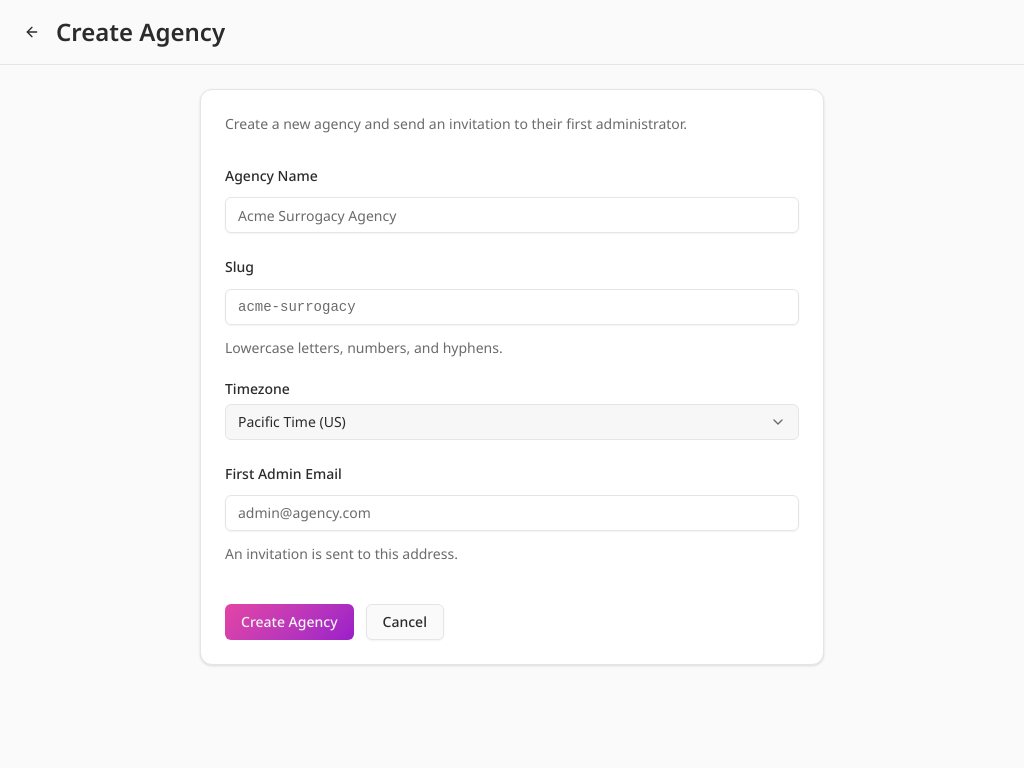
Scenario: NewAgencyPage validation › shows a slug format error instead of a required error
Type "Bad Slug" into the field labelled "Slug" at {"x": 512, "y": 306}, box [225, 288, 799, 324]
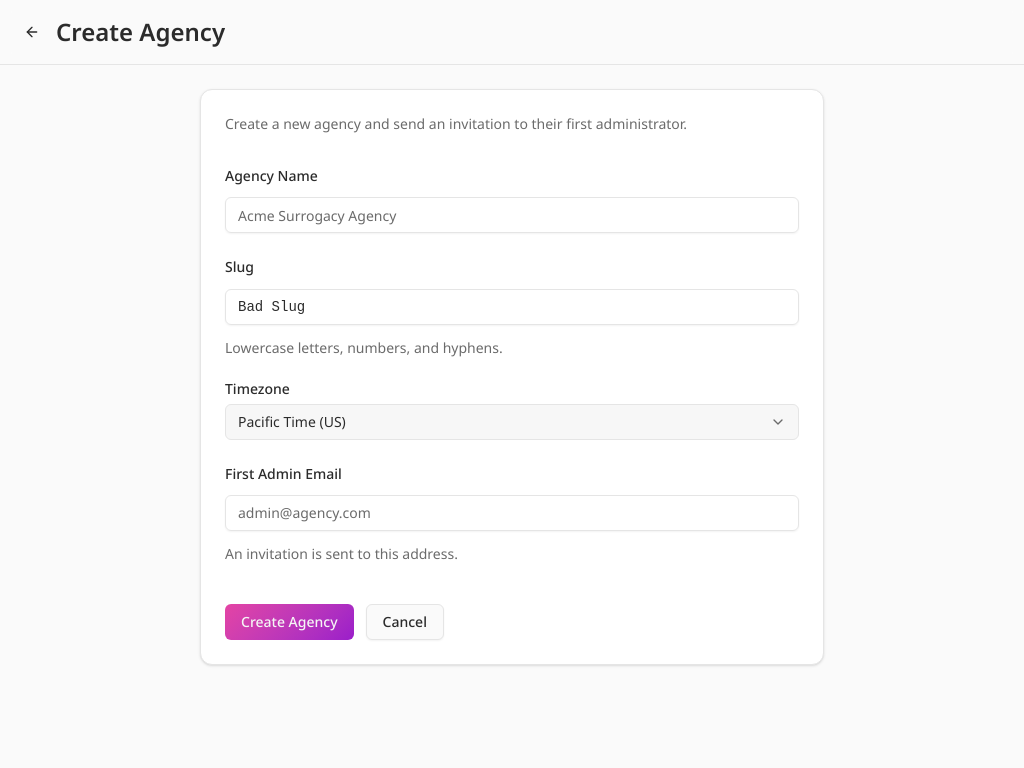
Leave the field labelled "Slug", box [225, 288, 799, 324]
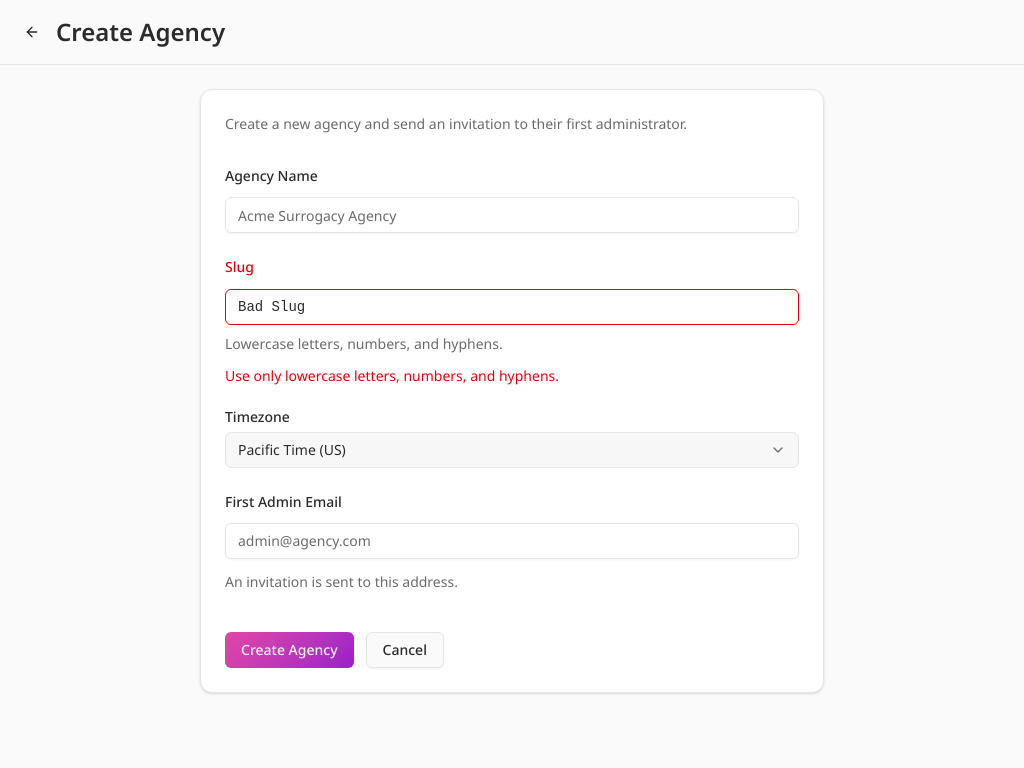
Expected: the text "Use only lowercase letters, numbers, and hyphens." is shown, [225, 366, 559, 384]
